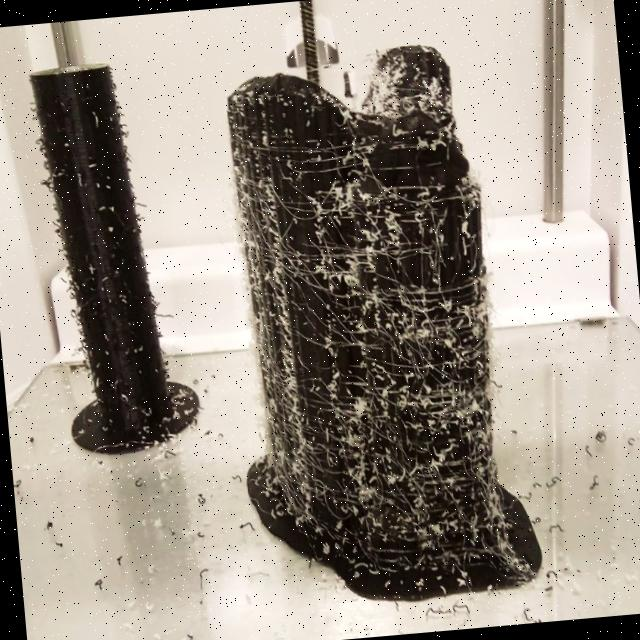stringing: (199, 41, 520, 588)
